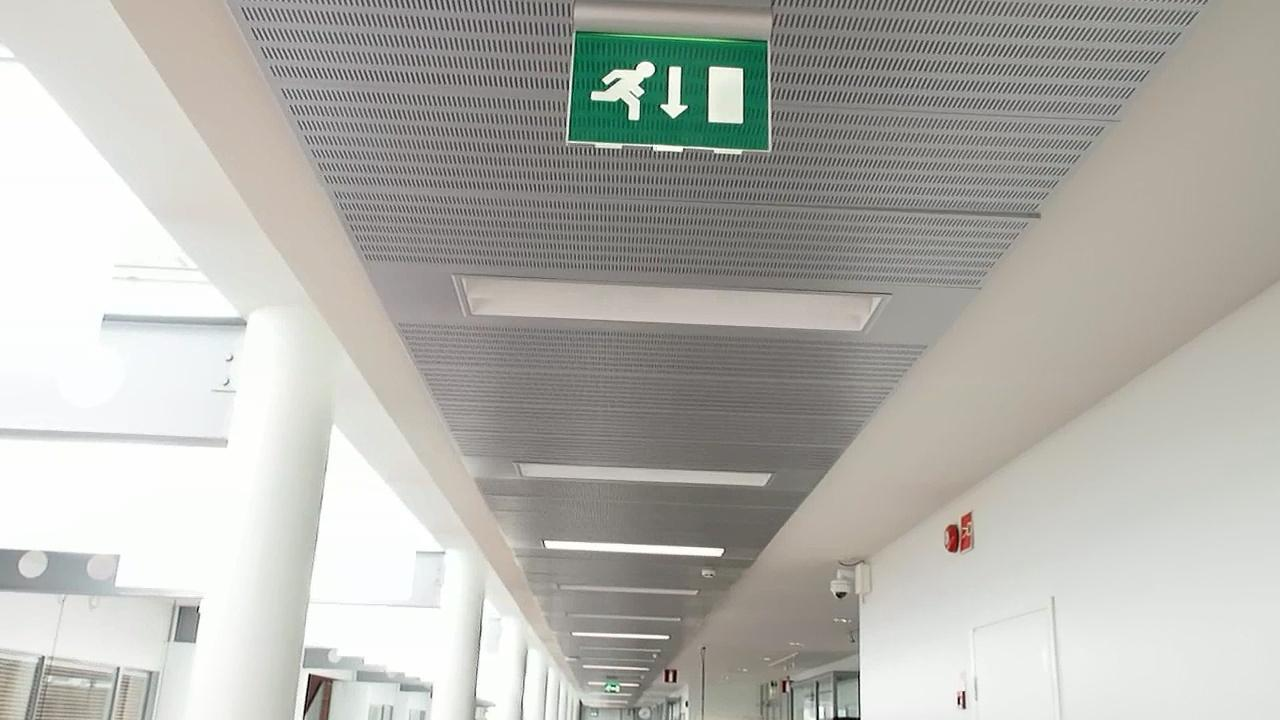exit: (561, 29, 769, 150)
